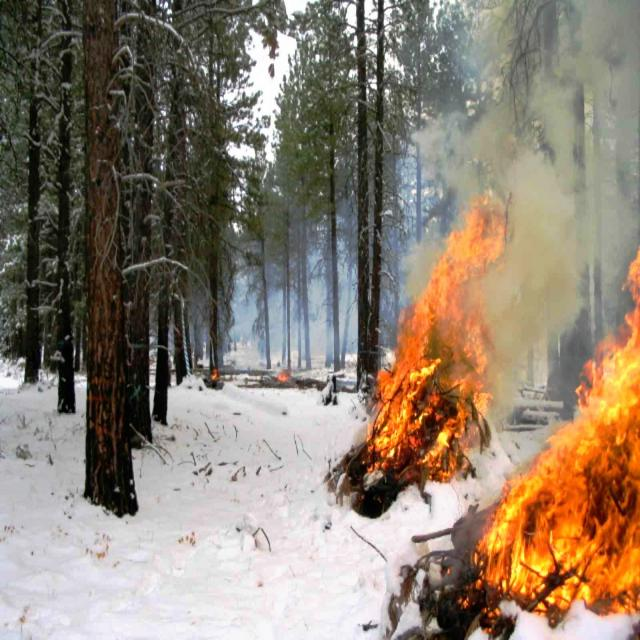api: (493, 398, 580, 620), (373, 339, 491, 492), (590, 265, 640, 617), (411, 291, 481, 344), (453, 205, 503, 274), (276, 363, 292, 387)
asap: (422, 1, 640, 200), (503, 208, 586, 392), (380, 226, 441, 285)
